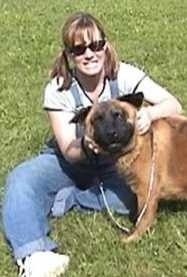dog: (73, 88, 187, 247)
